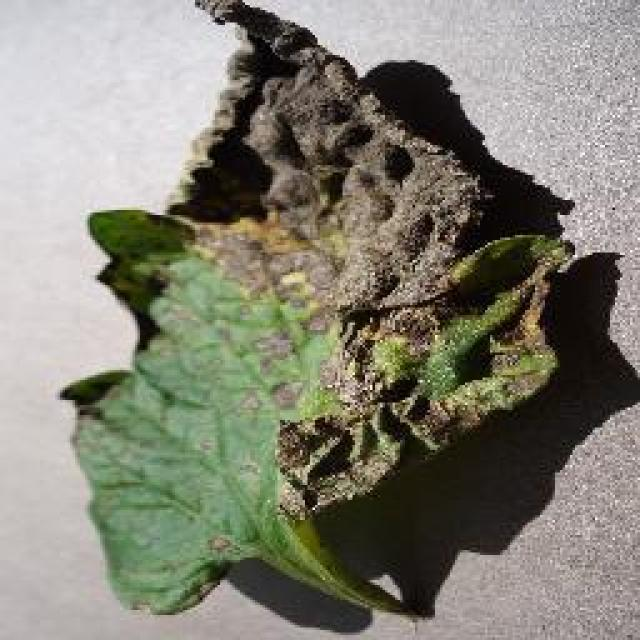Tomato Early blight leaf: (71, 0, 566, 600)
